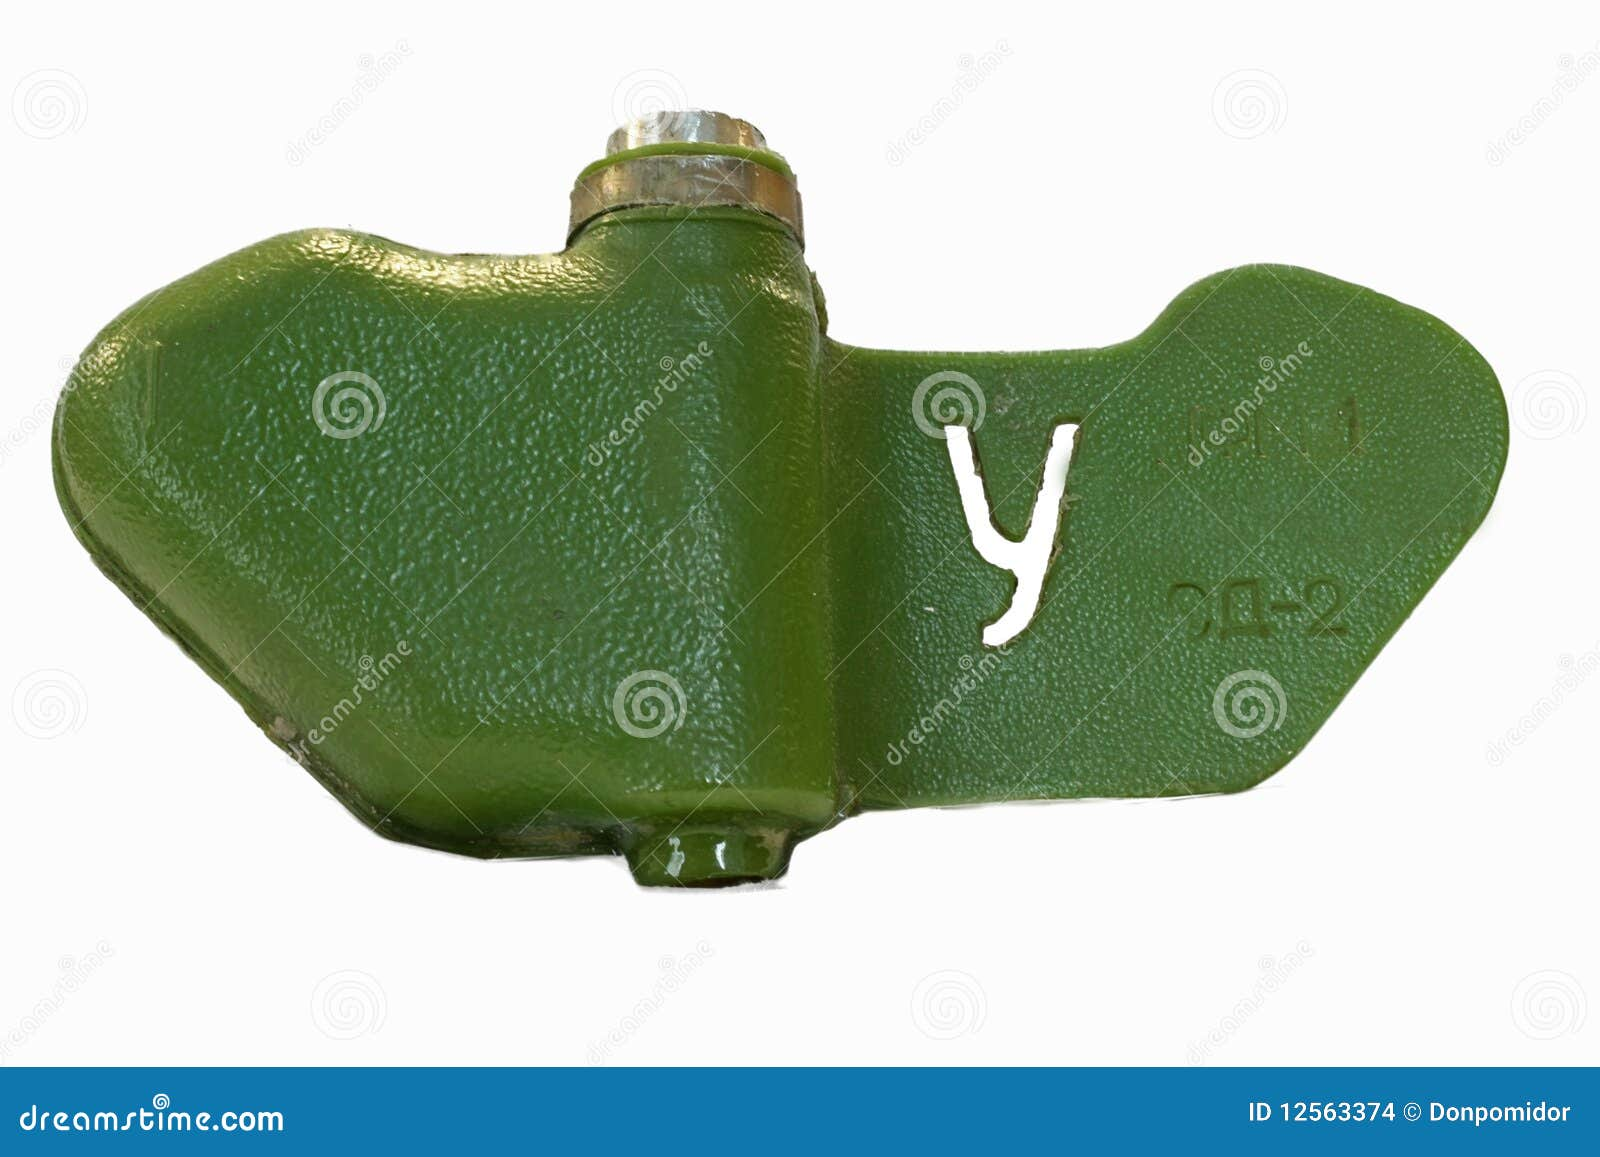butterfly: (41, 86, 1548, 940)
